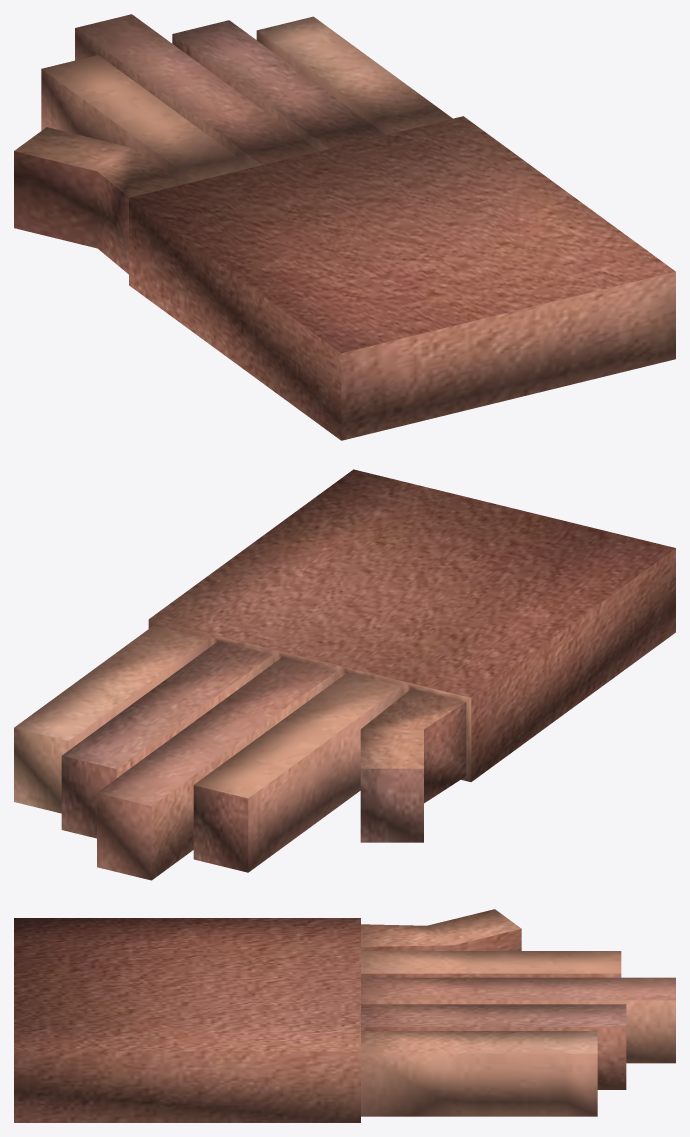
Rendered from hand.glb.
The picture shows the model from 3 angles, top to bottom: view 1: azimuth 30°, elevation 25°; view 2: azimuth 150°, elevation 25°; view 3: azimuth 270°, elevation 25°; orthographic projection. The views are drawn at different scales.
Parts seen in each view (by area): view 1: Cube.001; view 2: Cube.001; view 3: Cube.001.
Boxes of the visible parts, <box> form: Cube.001: <box>14,14,675,440</box>; Cube.001: <box>14,469,675,880</box>; Cube.001: <box>14,909,675,1122</box>.
Size of the model in its own units: 0.1099 by 0.025 by 0.2098.
Materials: 1 (1 with a texture image).
